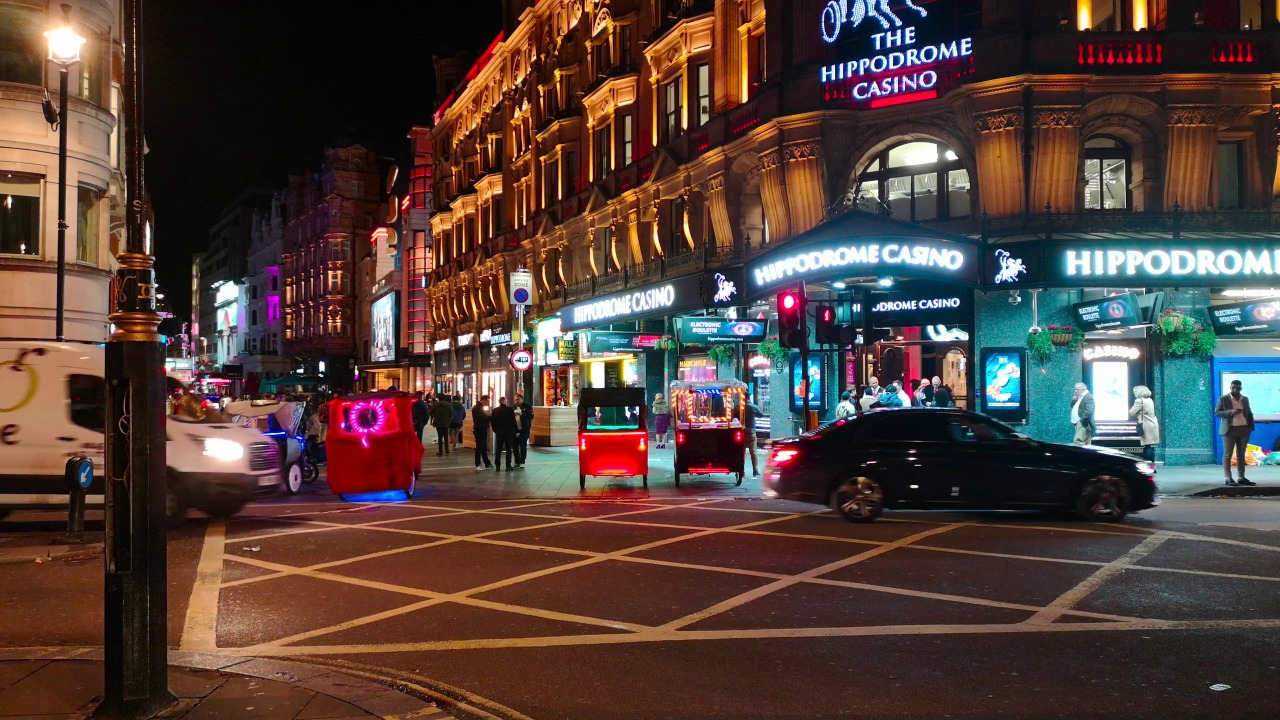car: (766, 406, 1152, 520), (2, 359, 262, 523), (330, 394, 428, 496), (576, 387, 661, 495), (676, 393, 750, 487), (277, 403, 308, 497)
person: (1218, 377, 1254, 489), (1062, 379, 1102, 439), (1134, 384, 1165, 458), (472, 395, 493, 473), (654, 392, 670, 451), (746, 399, 757, 477), (497, 398, 508, 474), (438, 403, 450, 459), (515, 398, 525, 460), (456, 403, 466, 452), (935, 381, 950, 401), (919, 380, 932, 398), (834, 394, 850, 406), (881, 385, 897, 396), (862, 393, 871, 401)
